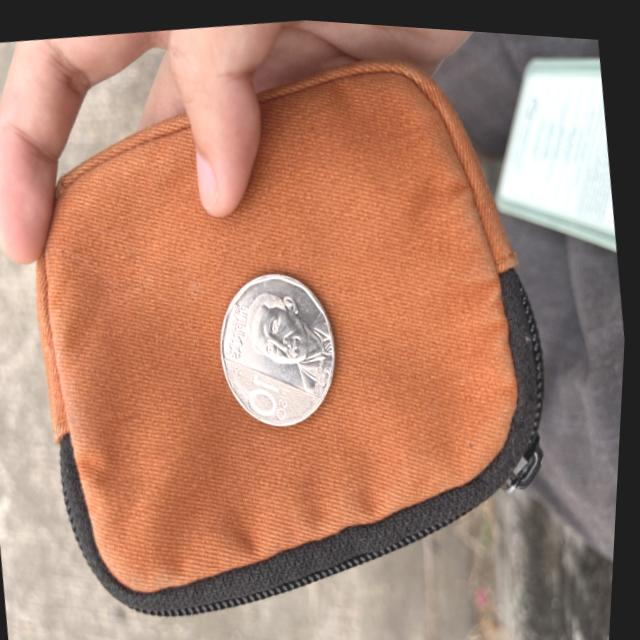10_New_Front: (246, 363, 302, 423)
